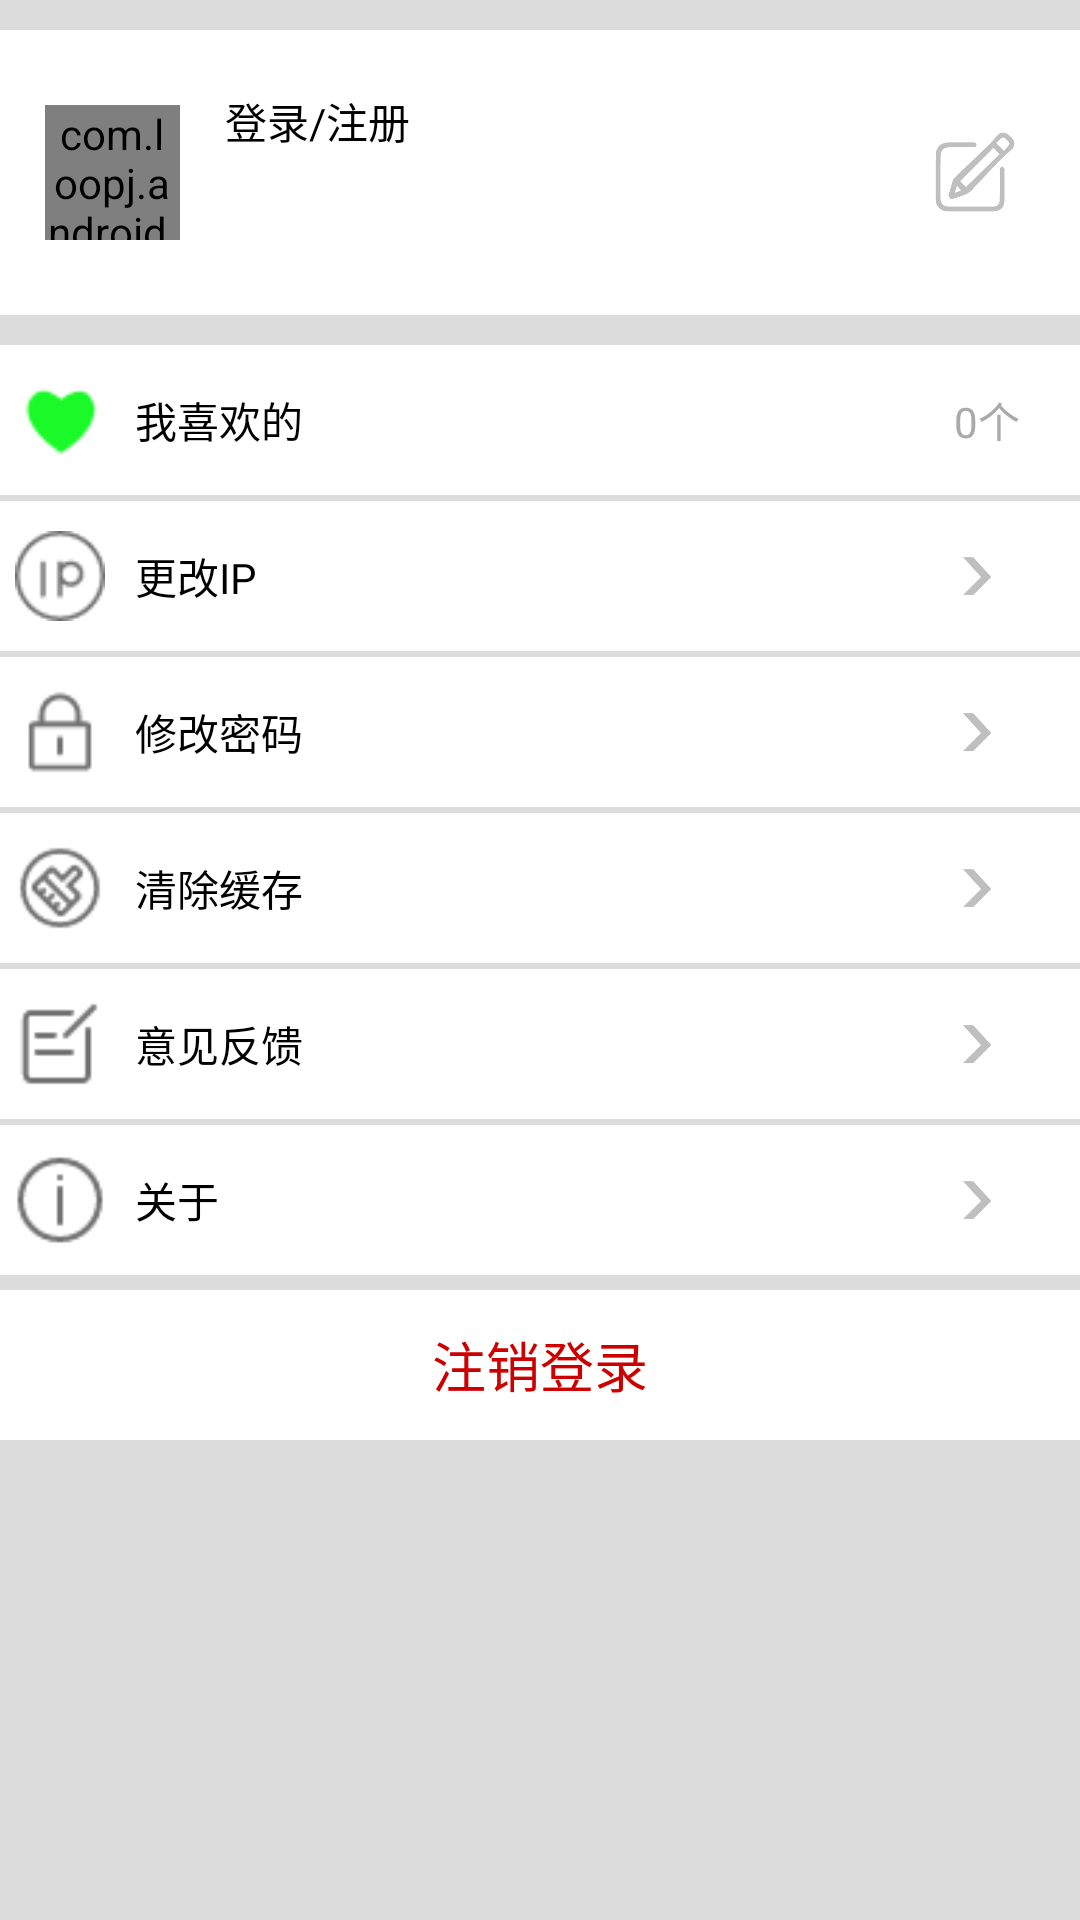

Named icons in this screenshot (1080w x 1920h) and their centers, (x,y):
about: (60,1200)
arrow right: (977,576), (977,732), (977,888), (977,1044), (977,1200)
clear cache: (60,888)
feedback: (59,1044)
heart: (61,422)
motify: (975,172)
password: (60,732)
